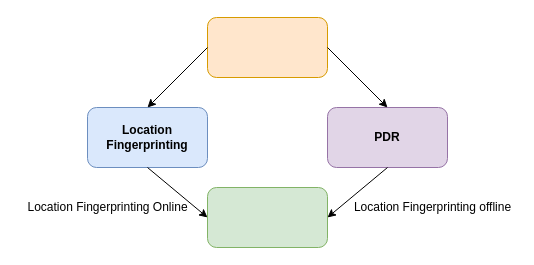
The diagram is 534 pixels wide and 265 high, and some of its shapes have lost their labels. Here are the shapes that lost their labels. From the top down, the centre of each, then its label:
At [267,47]: "Measurement".
At [267,217]: "Position Estimation".
